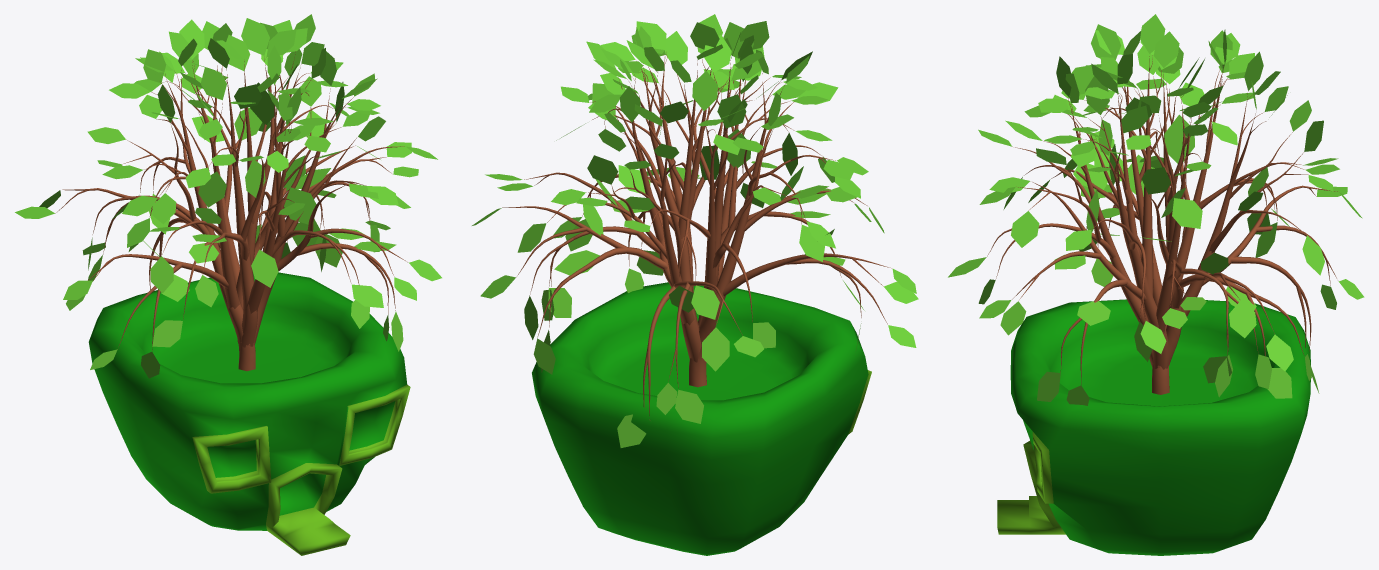
Rendered from CasaKiwi.fbx.
3 renders of one model, left to right at view 1: azimuth 30°, elevation 25°; view 2: azimuth 150°, elevation 25°; view 3: azimuth 270°, elevation 25°, orthographic. The views are drawn at different scales.
Parts seen in each view (by area): view 1: MateraKiwi, leaves, tree; view 2: MateraKiwi, leaves, tree; view 3: MateraKiwi, leaves, tree.
Boxes of the visible parts, x1,y1,x2,y2 form: MateraKiwi: (88,272,410,555); leaves: (15,14,441,378); tree: (55,51,407,371); MateraKiwi: (532,282,871,555); leaves: (472,14,918,447); tree: (502,52,891,416); MateraKiwi: (997,299,1310,555); leaves: (948,14,1364,405); tree: (987,55,1337,394).
Size of the model in its own units: 911 by 1077 by 829.
